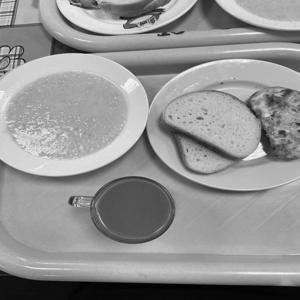bread: (156, 81, 260, 185)
cheese_sandwich: (236, 66, 300, 178)
coffee: (84, 171, 178, 253)
porridge: (3, 67, 132, 171)
